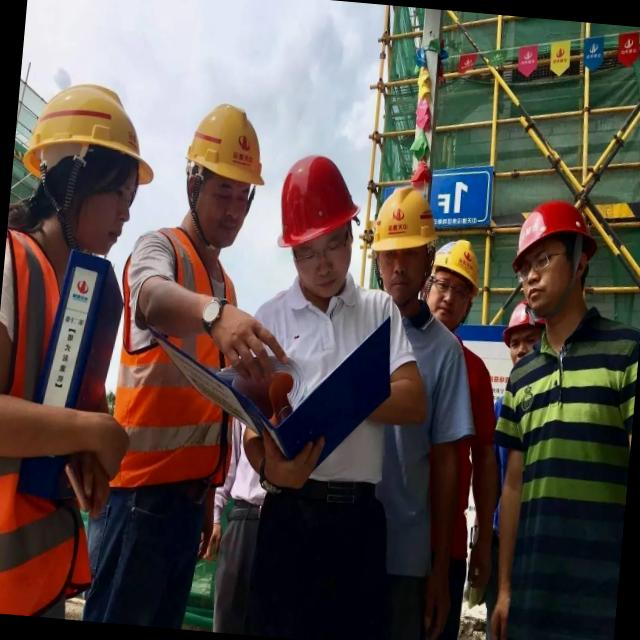helmet: (14, 73, 164, 202), (266, 146, 372, 266), (178, 98, 275, 203), (504, 189, 598, 267), (368, 177, 446, 268), (423, 234, 492, 304)
no-goggles: (294, 224, 356, 277), (515, 242, 582, 289), (196, 173, 254, 215), (428, 272, 474, 310), (377, 238, 432, 267), (107, 181, 139, 212)
no-vest: (488, 336, 638, 607), (250, 270, 390, 492)
vest: (0, 225, 122, 620), (114, 250, 235, 500)
